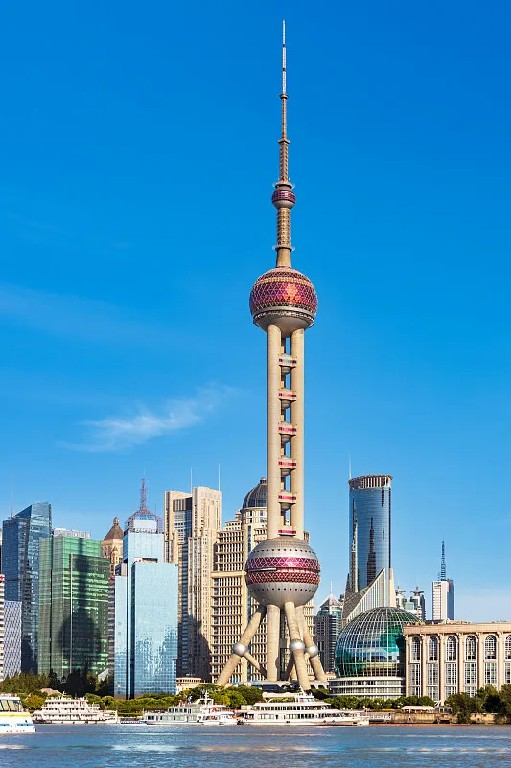Oriental: (216, 19, 325, 684)
